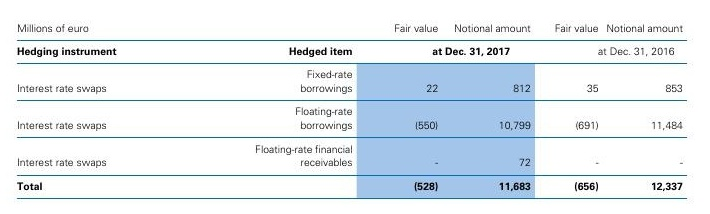table: (0, 0, 710, 214)
